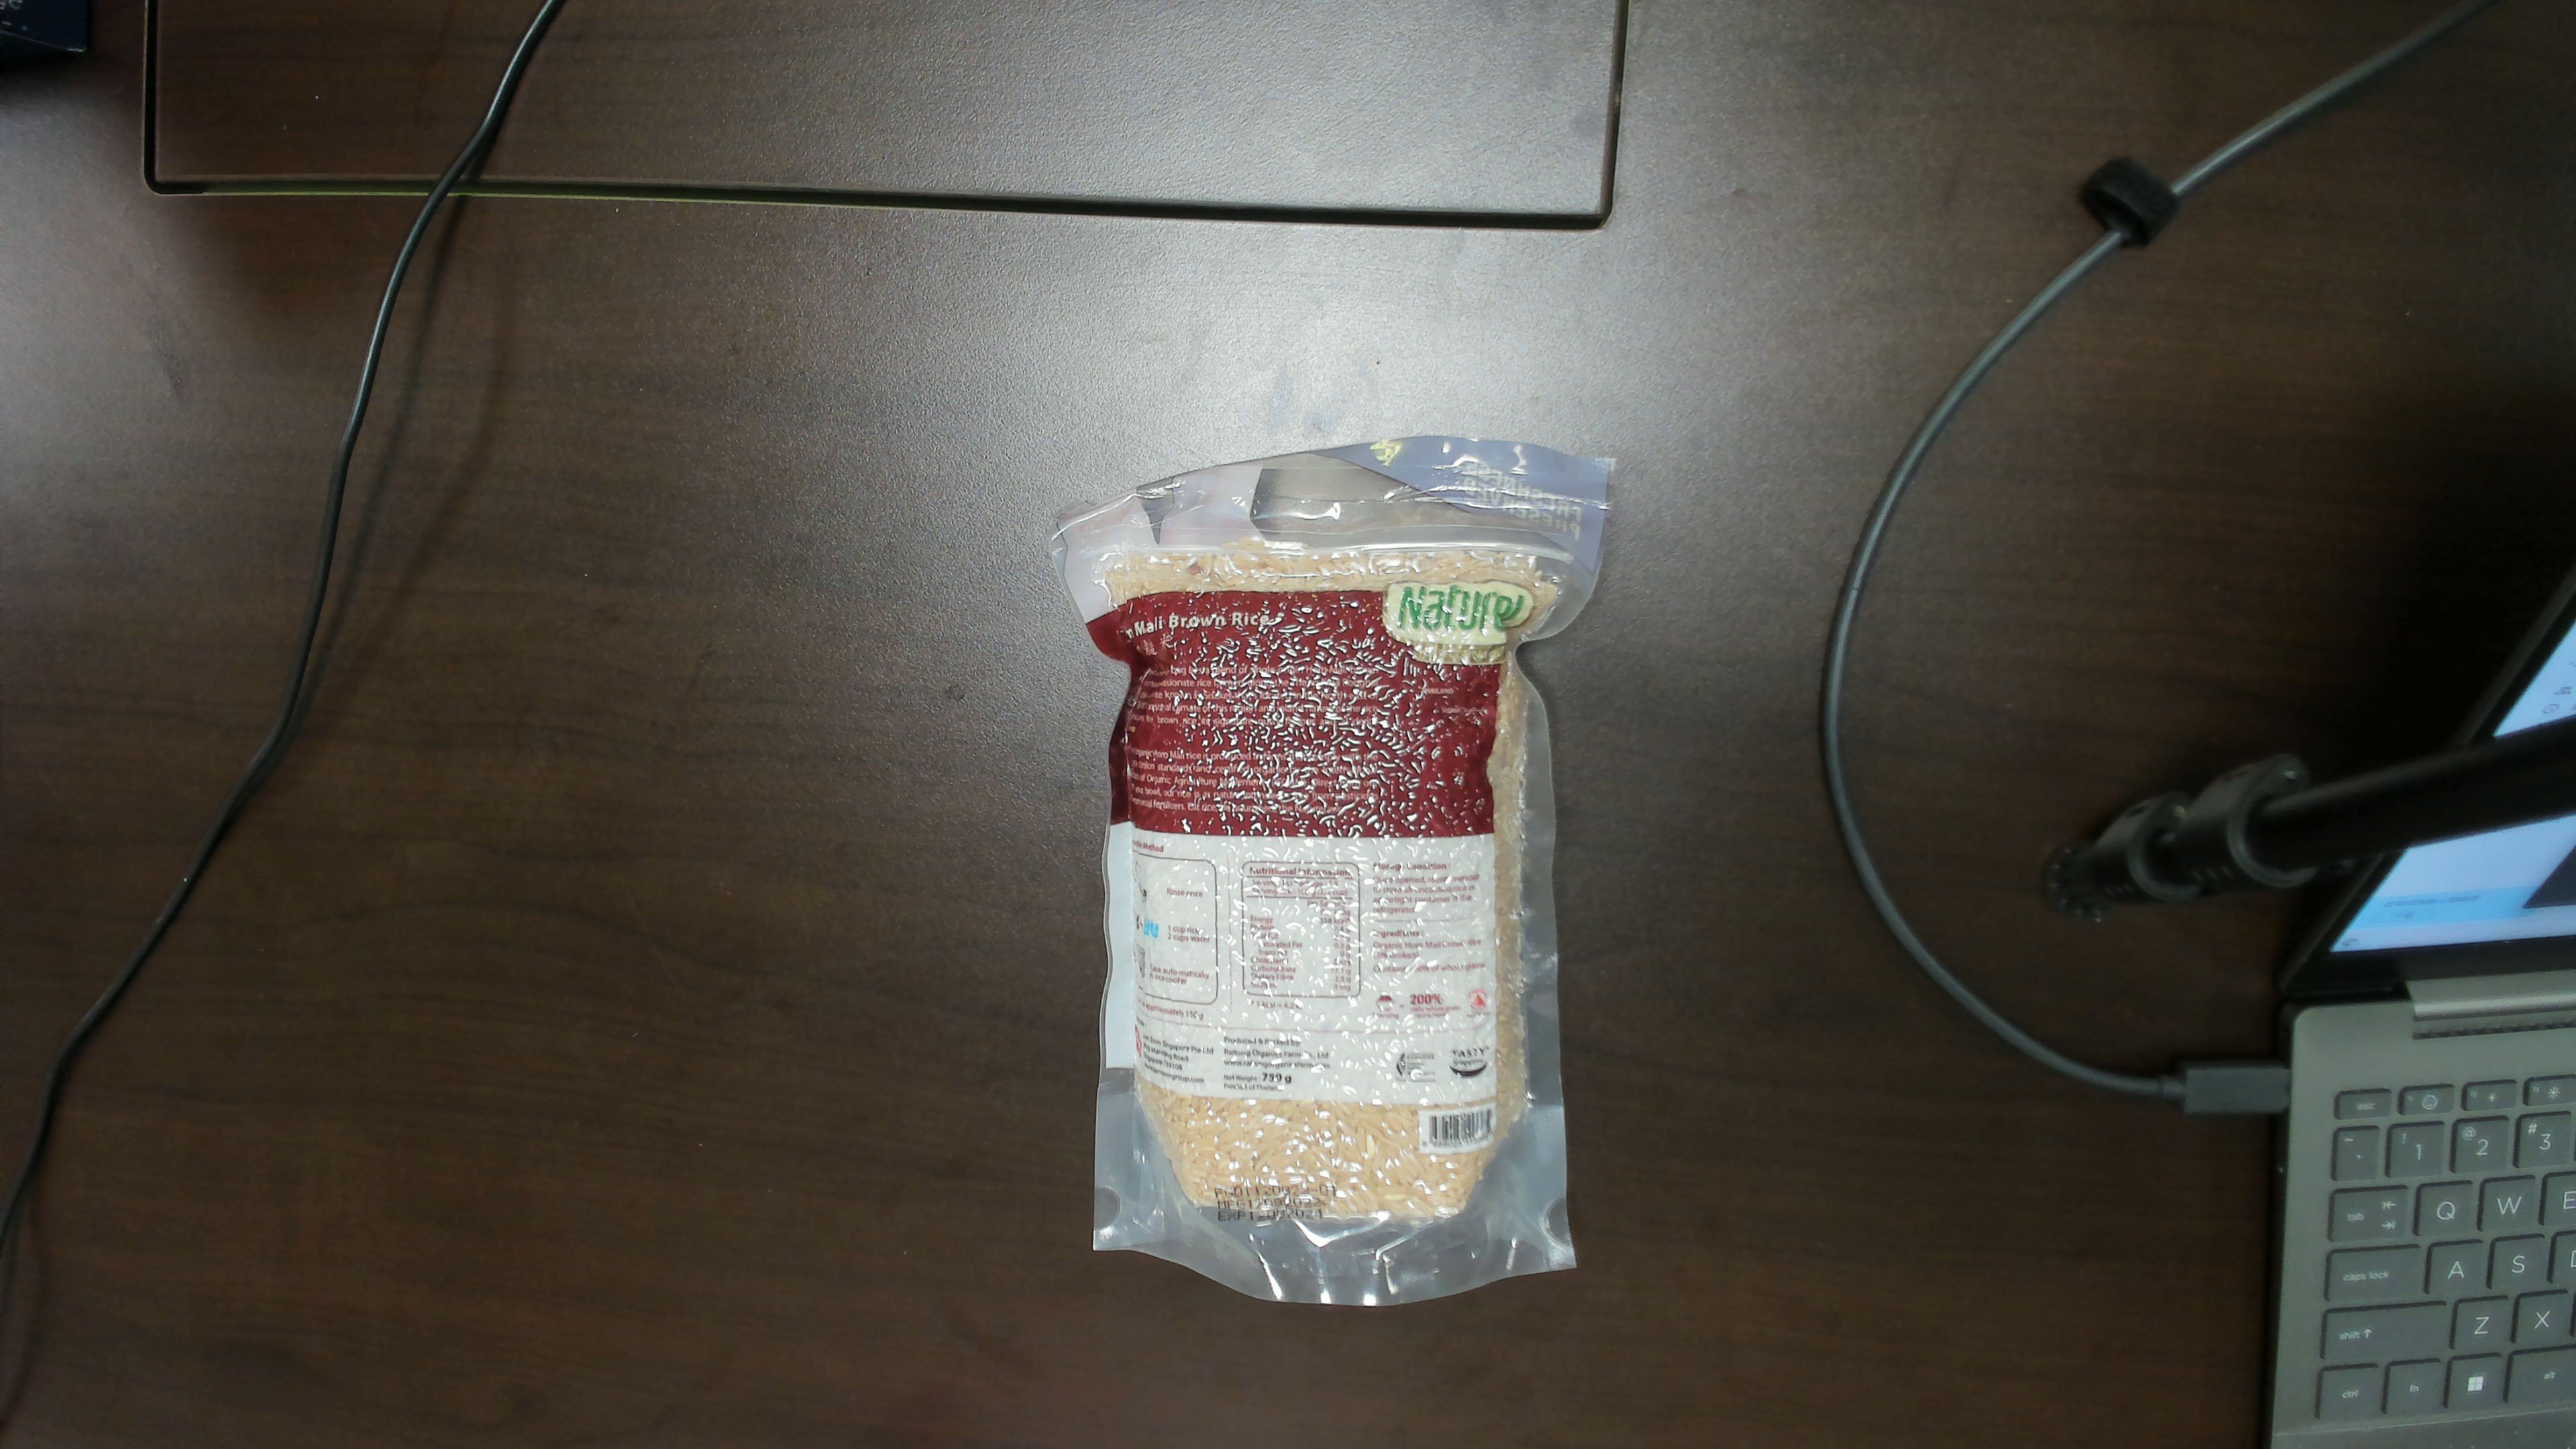Rice(brown-others)_700-799g_NonHalal_Healthy: (1113, 508, 1536, 1254)
